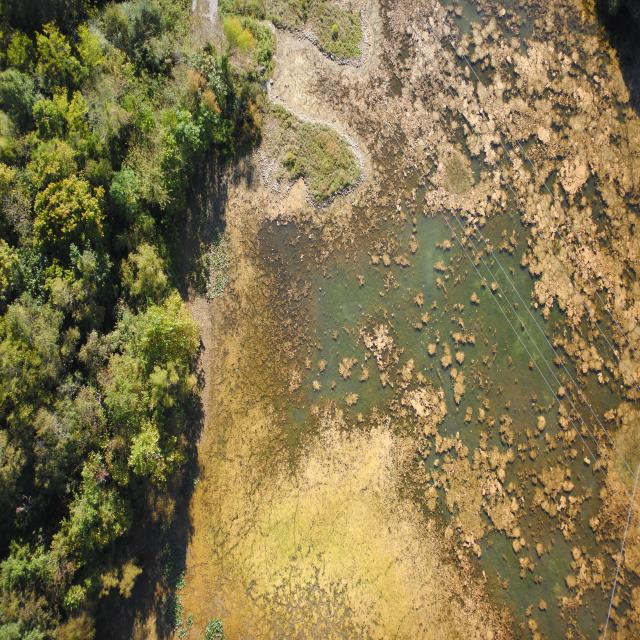Area of Interest: (5, 23, 260, 640)
